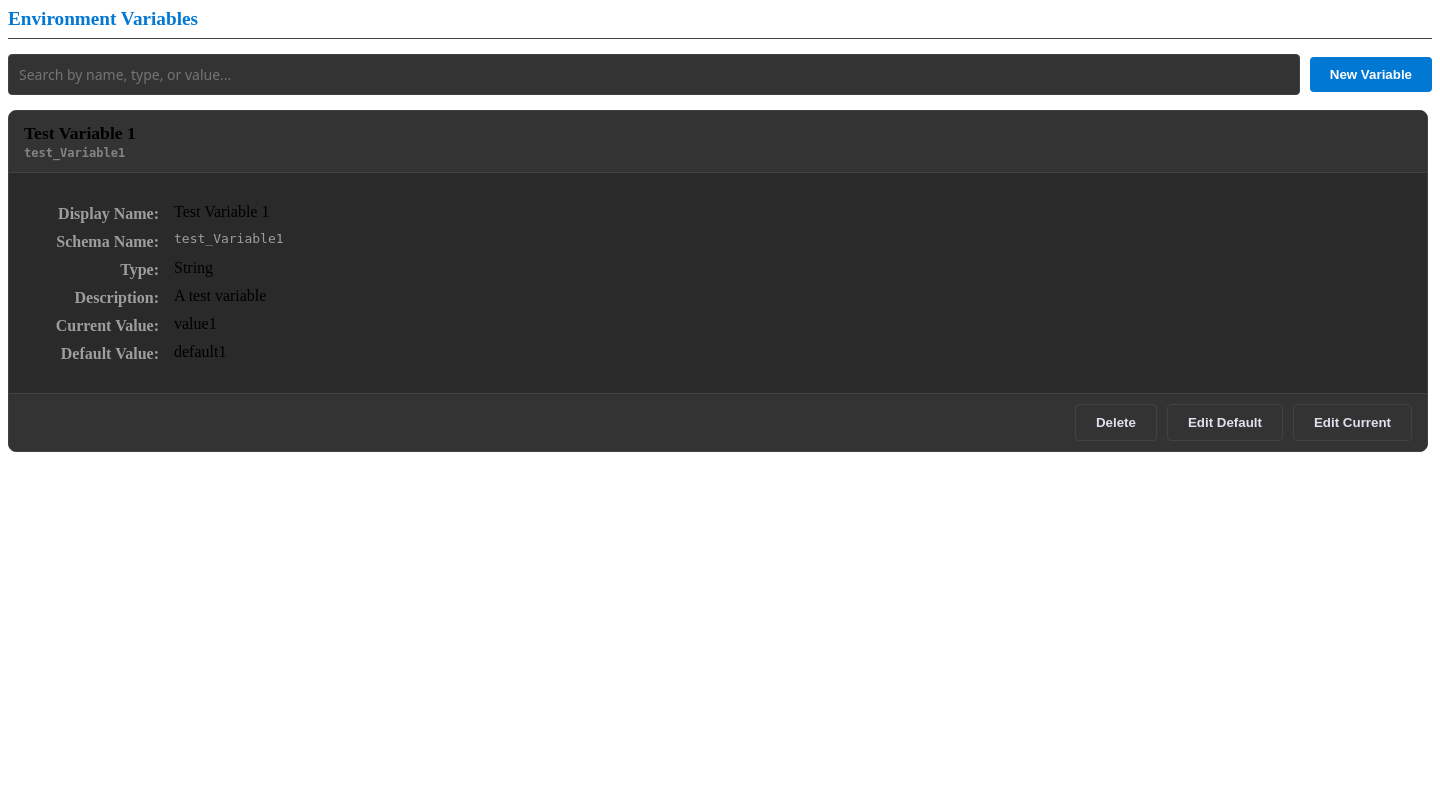
Scenario: EnvVarsTab › add button functionality › should open create dialog on add button click
This screenshot has width=1440, height=810.
Click the button with id "env-var-add-btn".
click(1371, 74)  # box [1310,57,1432,92]
(page scrolled)
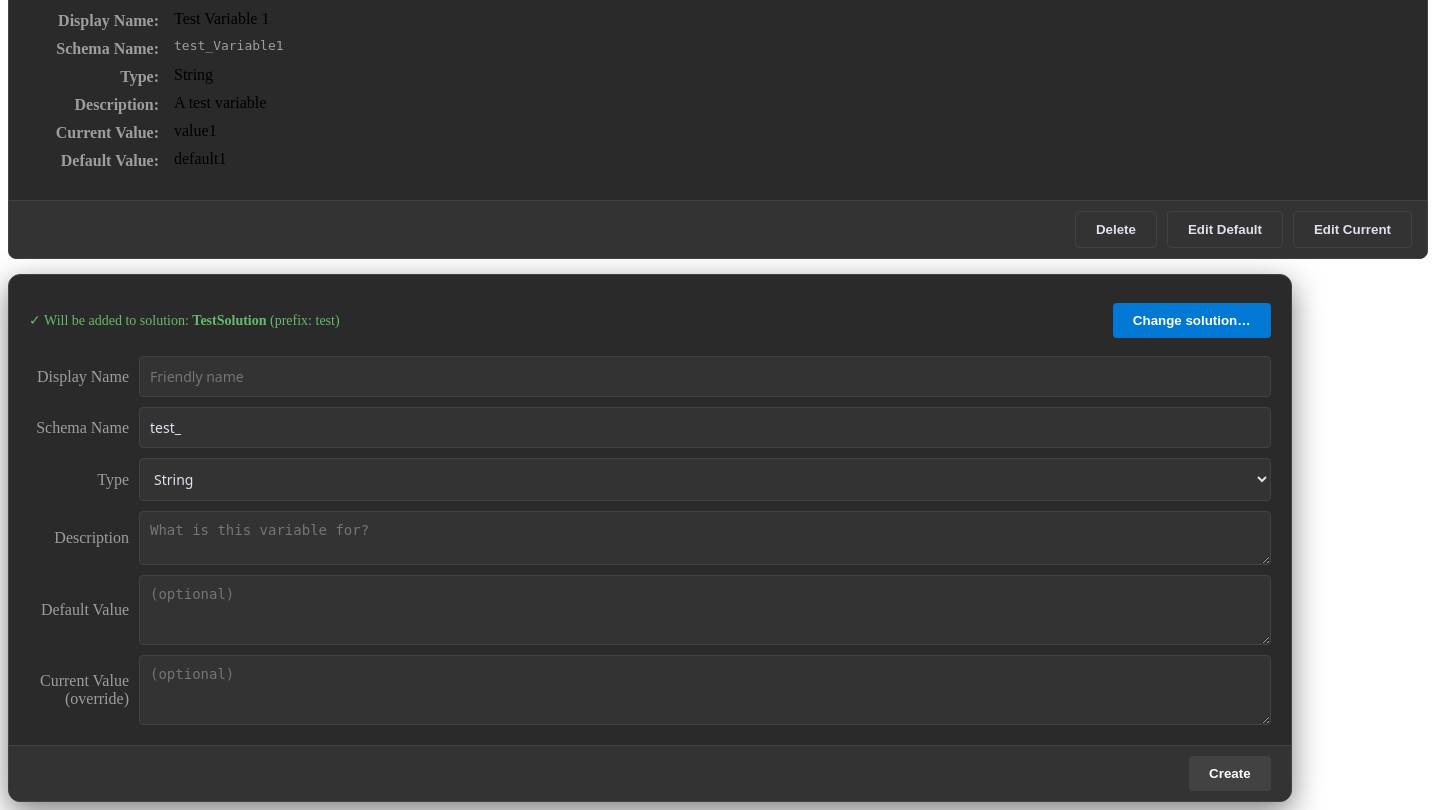
Now the element that starts with "✓ Will be added to solution:" is shown
